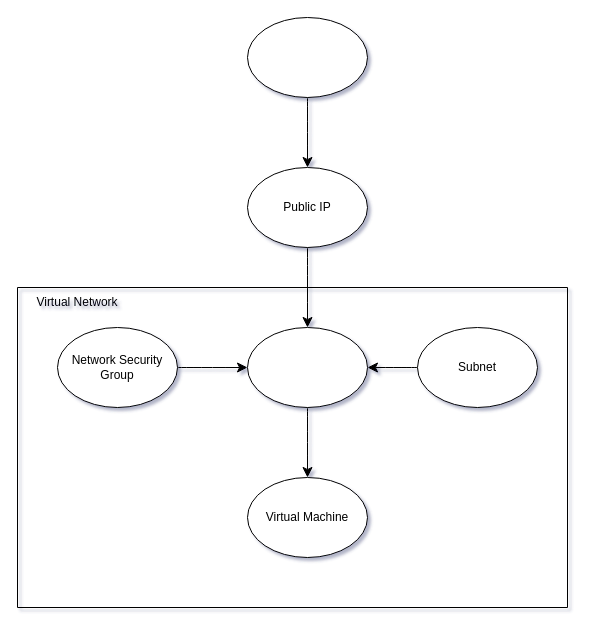
Some shapes in this 591 by 631 pixel diagram are drawn without their labels. Each missing label, with the centre of its shape:
Internet: the point at 307,57
Network Interface: the point at 307,367
